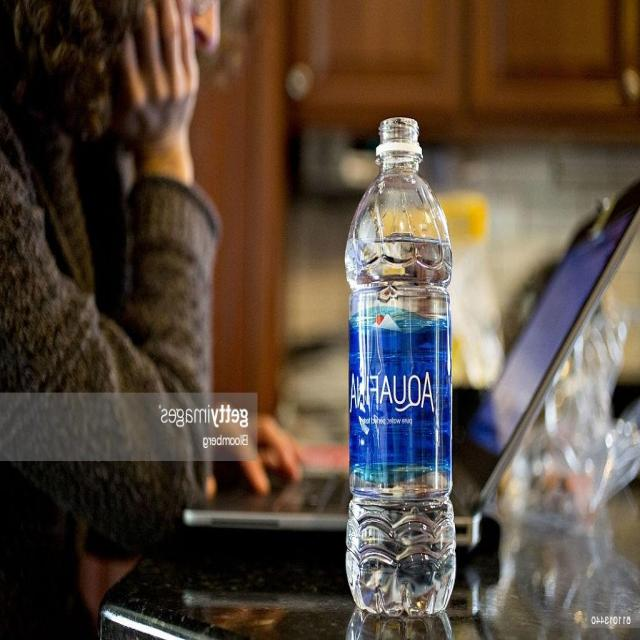plastic: (344, 117, 456, 639)
